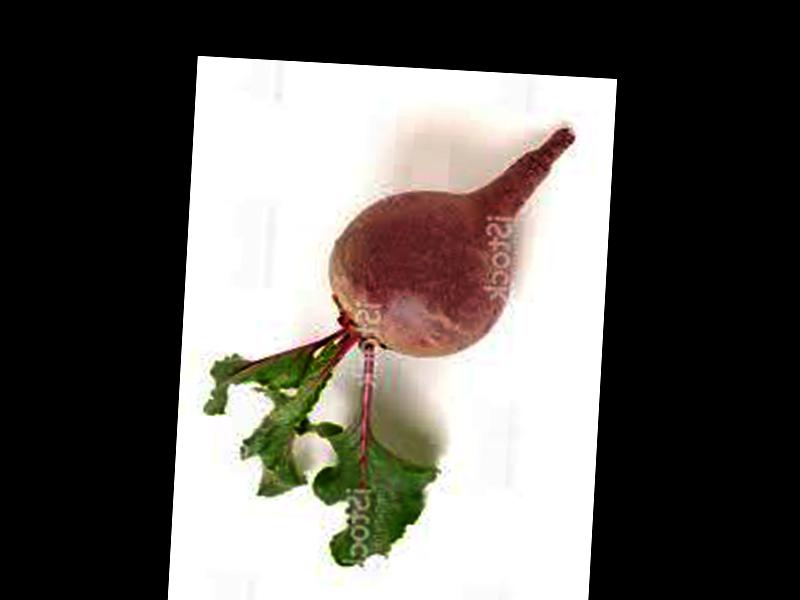Beet: (195, 110, 573, 579)
